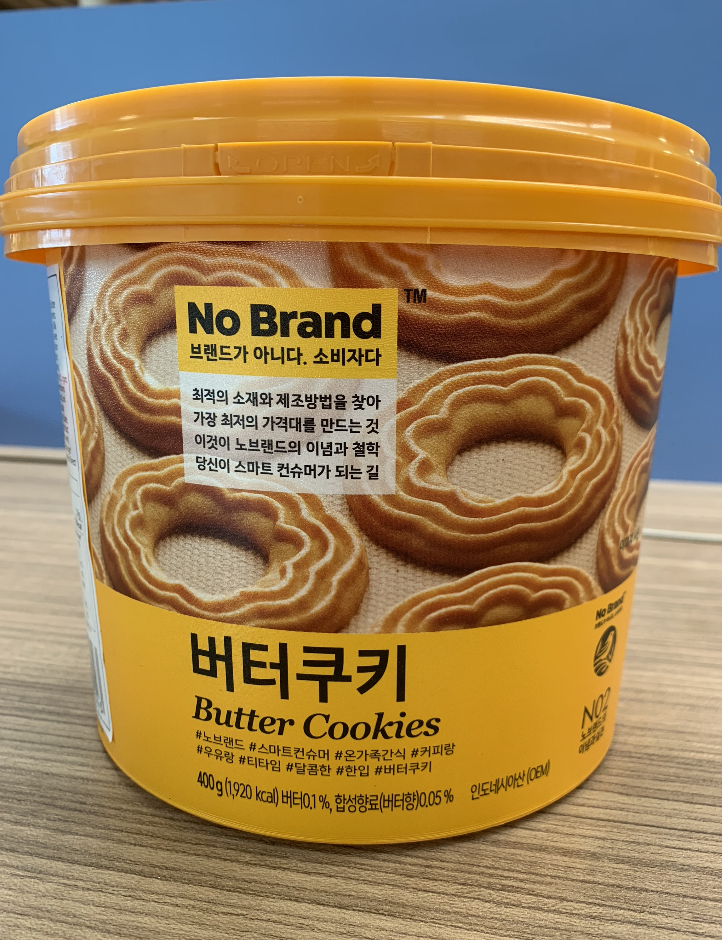cookies_400g-499g: (114, 264, 614, 805)
